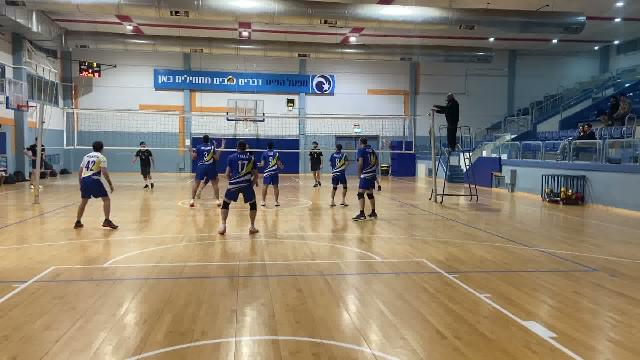ball: (227, 75, 236, 88)
